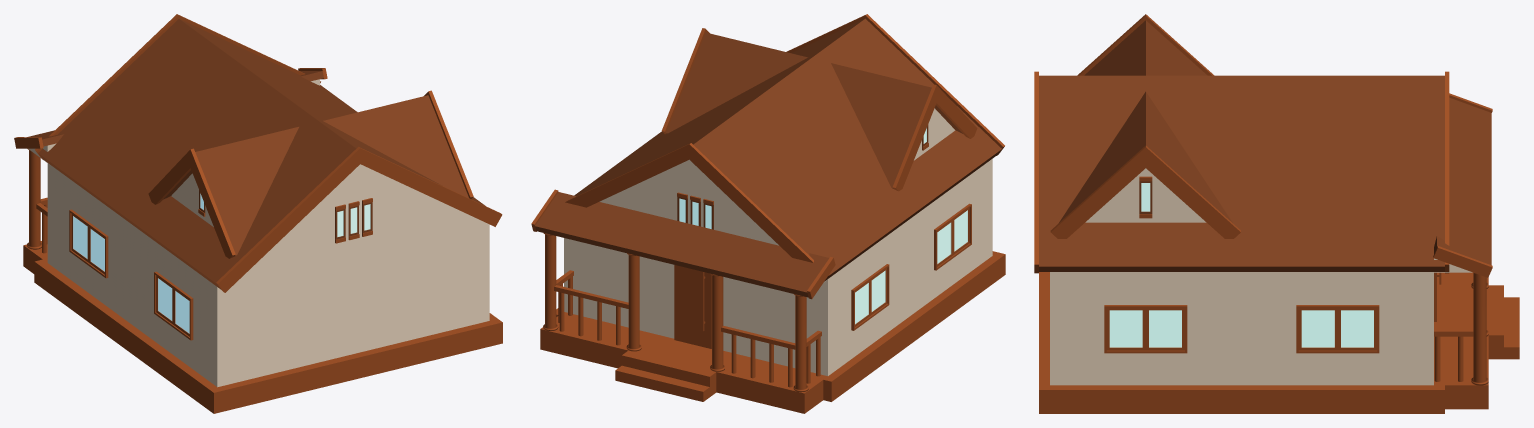
The model's file is OriginalHouse.glb.
The picture shows the model from 3 angles, left to right: view 1: azimuth 30°, elevation 25°; view 2: azimuth 150°, elevation 25°; view 3: azimuth 270°, elevation 25°; orthographic projection. The views are drawn at different scales.
Visible parts, largest first — view 1: Cube (×4), Spline (×7), Window (×4), Outer Window Frame (×2), Cylindrical Lathe; view 2: Spline (×7), Cube (×7), Cylindrical Lathe (×4), Door, Window (×4), Spline 2D (×2), Outer Window Frame (×2); view 3: Spline (×8), Cube (×6), Window (×4), Inner Window Frame (×4), Outer Window Frame (×2), Cylindrical Lathe.
Part boxes in pixels (left/top/right/bottom): Cube (×4): left=34, top=163, right=502, bottom=413; Spline (×7): left=27, top=14, right=502, bottom=292; Window (×4): left=73, top=216, right=189, bottom=333; Outer Window Frame (×2): left=69, top=209, right=193, bottom=340; Cylindrical Lathe: left=27, top=148, right=41, bottom=249; Spline (×7): left=535, top=14, right=1004, bottom=297; Cube (×7): left=540, top=108, right=1005, bottom=413; Cylindrical Lathe (×4): left=543, top=233, right=808, bottom=392; Door: left=676, top=265, right=709, bottom=345; Window (×4): left=855, top=210, right=967, bottom=324; Spline 2D (×2): left=554, top=270, right=821, bottom=349; Outer Window Frame (×2): left=851, top=203, right=971, bottom=330; Spline (×8): left=1034, top=14, right=1492, bottom=277; Cube (×6): left=1039, top=168, right=1519, bottom=413; Window (×4): left=1109, top=310, right=1373, bottom=347; Inner Window Frame (×4): left=1106, top=308, right=1377, bottom=350; Outer Window Frame (×2): left=1104, top=305, right=1379, bottom=353; Cylindrical Lathe: left=1471, top=272, right=1488, bottom=385.
Size of the model in its own units: 8.6 by 6.6 by 11.05.
